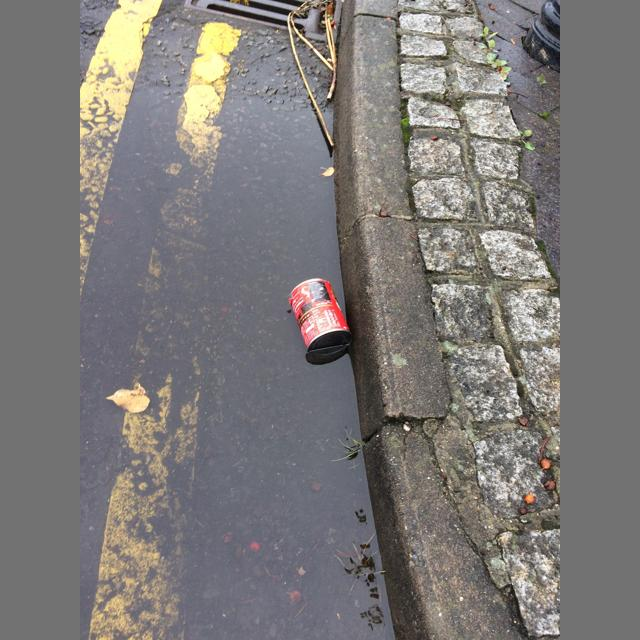litter: (289, 279, 353, 352)
